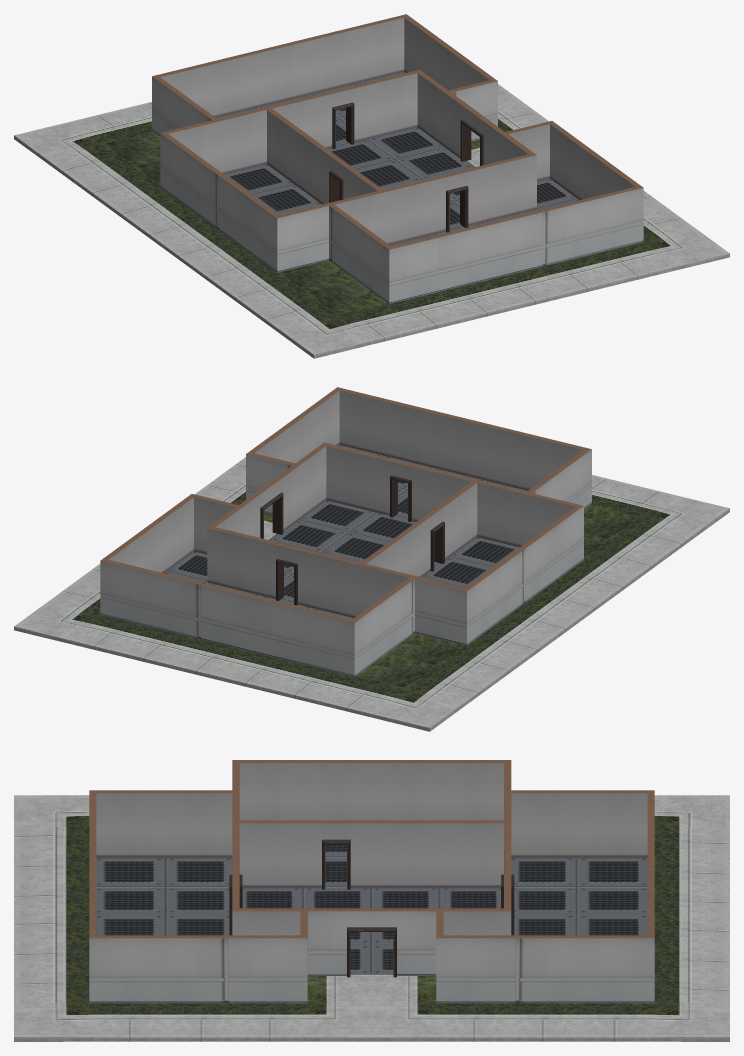
File: office3.fbx
The picture shows the model from 3 angles, top to bottom: view 1: azimuth 30°, elevation 25°; view 2: azimuth 150°, elevation 25°; view 3: azimuth 270°, elevation 25°; orthographic projection. The views are drawn at different scales.
Parts seen in each view (by area): view 1: outsidewall, floor, insidewall; view 2: outsidewall, floor, insidewall; view 3: floor, outsidewall, insidewall.
Boxes of the visible parts, box(x1,y1,x2,y2) form: outsidewall: box(152, 14, 643, 304); floor: box(14, 72, 729, 358); insidewall: box(218, 69, 536, 245); outsidewall: box(100, 387, 591, 677); floor: box(14, 445, 729, 731); insidewall: box(207, 442, 525, 617); floor: box(14, 795, 729, 1041); outsidewall: box(89, 760, 654, 1003); insidewall: box(229, 793, 514, 935).
Bounding box in the file's own units: 80 × 11.03 × 100.
